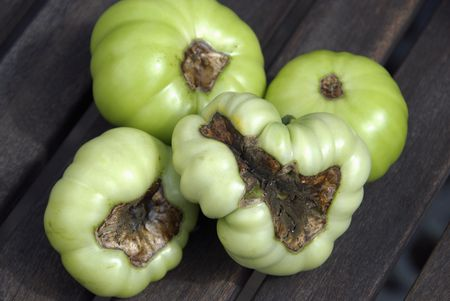blossom_rotw: (202, 109, 347, 246), (88, 172, 187, 262), (162, 30, 245, 101), (313, 60, 356, 111)
